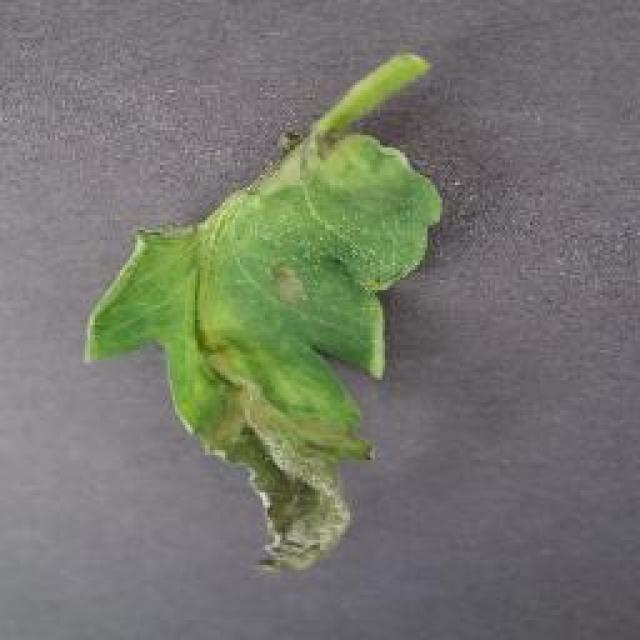Tomato___Late_blight: (85, 52, 442, 572)
